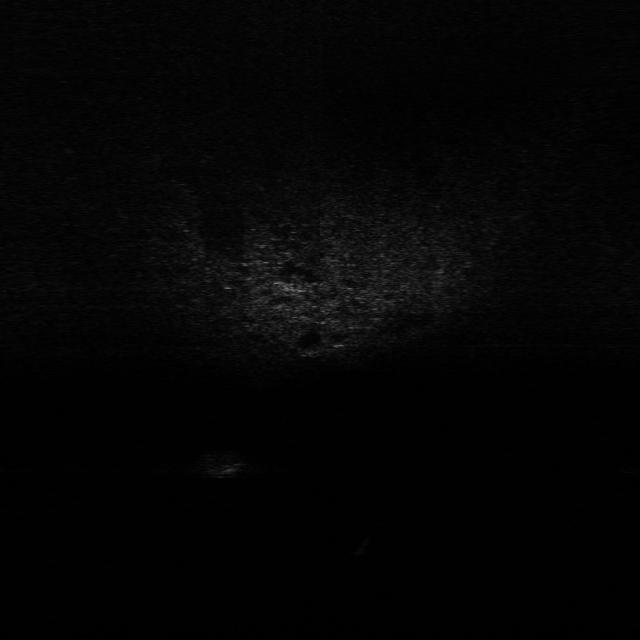circle cage: (198, 450, 244, 480)
cylinder: (356, 529, 372, 558)
